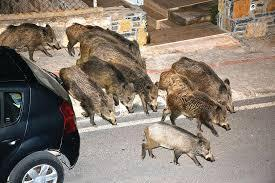wildboar: (170, 56, 237, 114), (140, 120, 217, 169), (60, 64, 118, 127), (160, 90, 231, 137), (82, 57, 136, 113), (0, 23, 61, 62)
